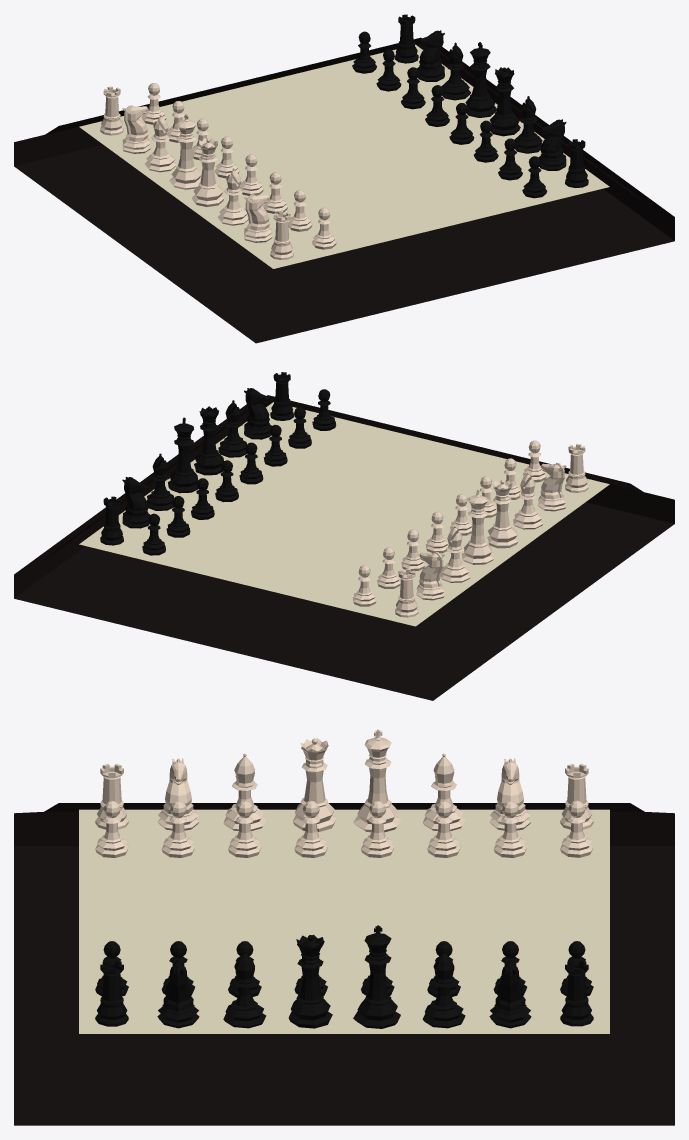
The model's file is Chess scene1.fbx.
3 views of the same model, one above another, from view 1: azimuth 30°, elevation 25°; view 2: azimuth 150°, elevation 25°; view 3: azimuth 270°, elevation 25° (orthographic). The views are drawn at different scales.
Visible parts, largest first — view 1: Plane, Grid, Pawn.019, Pawn.004, Pawn.001, Pawn.005, Pawn.002, Pawn.016, Pawn.015, Pawn.014, Bishop .003, Bishop .004 (+20 smaller); view 2: Plane, Grid, Pawn.019, Pawn.004, Pawn.001, Pawn.005, Pawn.002, Pawn.016, Pawn.015, Pawn.014, Bishop .004, Bishop .003 (+20 smaller); view 3: Plane, Grid, Pawn.004, Pawn.005, Pawn.019, Pawn.001, Bishop .002, Bishop .001, Pawn.002, Pawn.016, Cylinder.002, Cylinder (+14 smaller).
Boxes of the visible parts, x1,y1,x2,y2 form: Plane: [14, 37, 674, 343]; Grid: [79, 44, 609, 268]; Pawn.019: [169, 113, 201, 189]; Pawn.004: [465, 42, 496, 117]; Pawn.001: [192, 138, 224, 206]; Pawn.005: [490, 67, 520, 136]; Pawn.002: [417, 30, 444, 81]; Pawn.016: [538, 119, 566, 170]; Pawn.015: [244, 194, 272, 242]; Pawn.014: [122, 105, 151, 153]; Bishop .003: [145, 114, 176, 172]; Bishop .004: [217, 168, 248, 225]; Plane: [14, 395, 674, 700]; Grid: [79, 402, 609, 626]; Pawn.019: [461, 489, 494, 564]; Pawn.004: [168, 417, 197, 493]; Pawn.001: [487, 479, 518, 548]; Pawn.005: [194, 406, 223, 475]; Pawn.002: [122, 477, 150, 528]; Pawn.016: [244, 388, 271, 439]; Pawn.015: [538, 462, 566, 511]; Pawn.014: [416, 551, 444, 600]; Bishop .004: [513, 472, 543, 529]; Bishop .003: [440, 525, 470, 582]; Plane: [14, 803, 674, 1125]; Grid: [79, 809, 609, 1033]; Pawn.004: [353, 925, 400, 1028]; Pawn.005: [288, 934, 332, 1028]; Pawn.019: [353, 729, 400, 832]; Pawn.001: [292, 738, 336, 831]; Bishop .002: [422, 950, 465, 1028]; Bishop .001: [223, 950, 266, 1028]; Pawn.002: [489, 959, 531, 1028]; Pawn.016: [157, 959, 199, 1028]; Cylinder.002: [95, 960, 128, 1026]; Cylinder: [560, 960, 593, 1026].
Size of the model in its own units: 0.5973 by 0.1589 by 0.5973.
